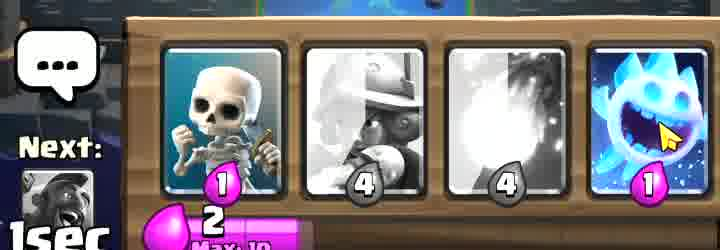hog-rider: (21, 170, 90, 232)
ice-spirit: (597, 44, 712, 198)
